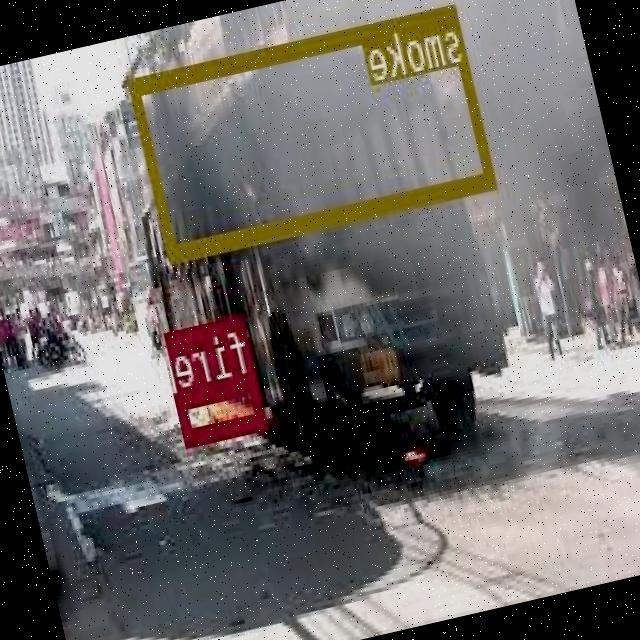fire: (175, 372, 268, 442)
smoke: (130, 1, 498, 260)
